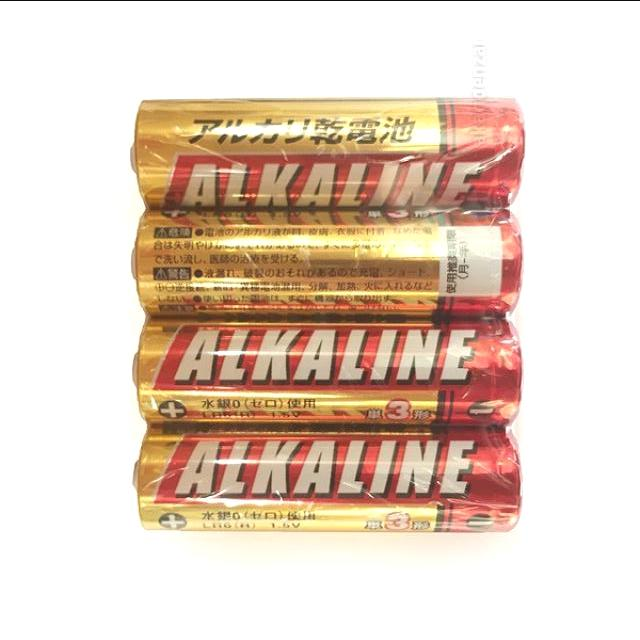AA: (123, 83, 531, 217), (124, 313, 549, 434), (122, 208, 540, 330), (124, 426, 536, 536)
